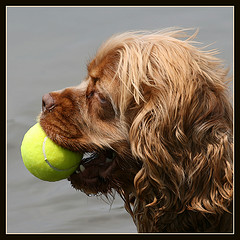tennis ball: (19, 118, 87, 182)
